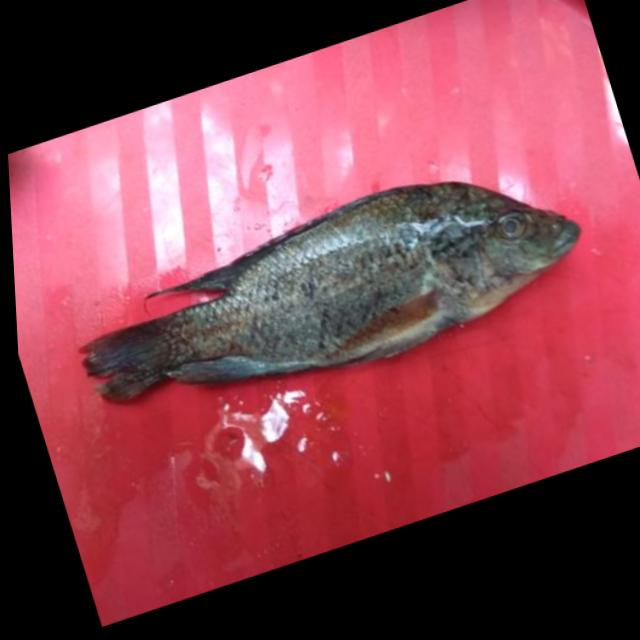Tilapia: (52, 125, 603, 452)
